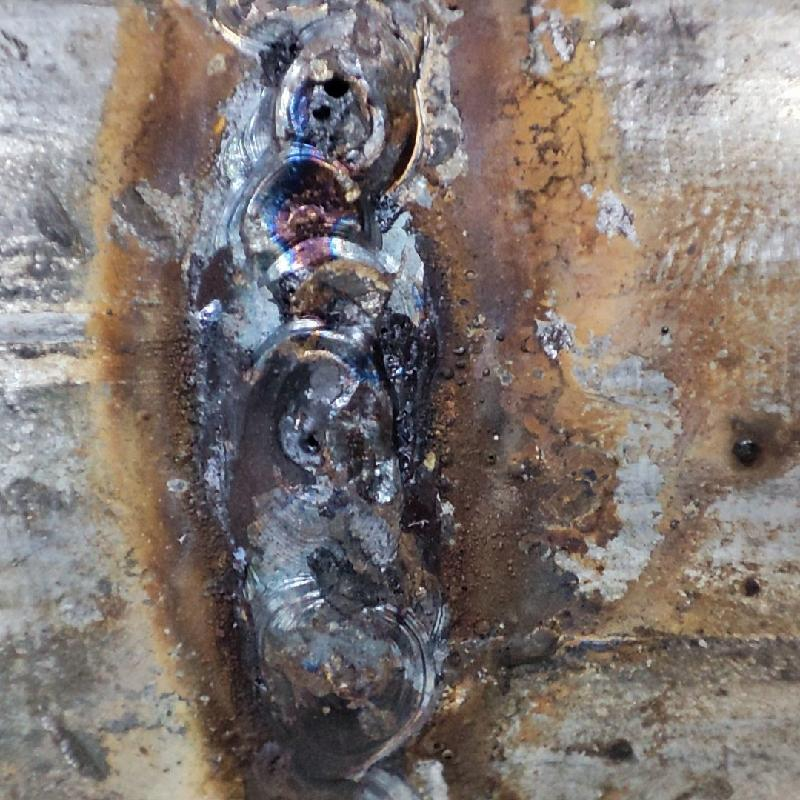Surface_pores: (293, 63, 366, 130)
crater: (229, 1, 427, 480)
